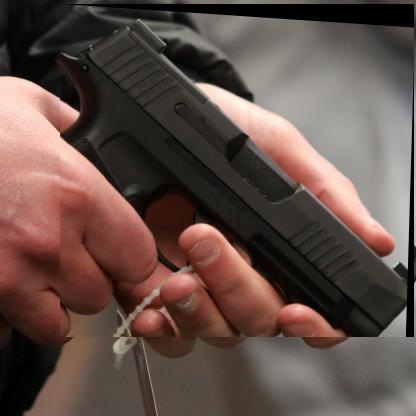gun: (60, 4, 415, 338)
